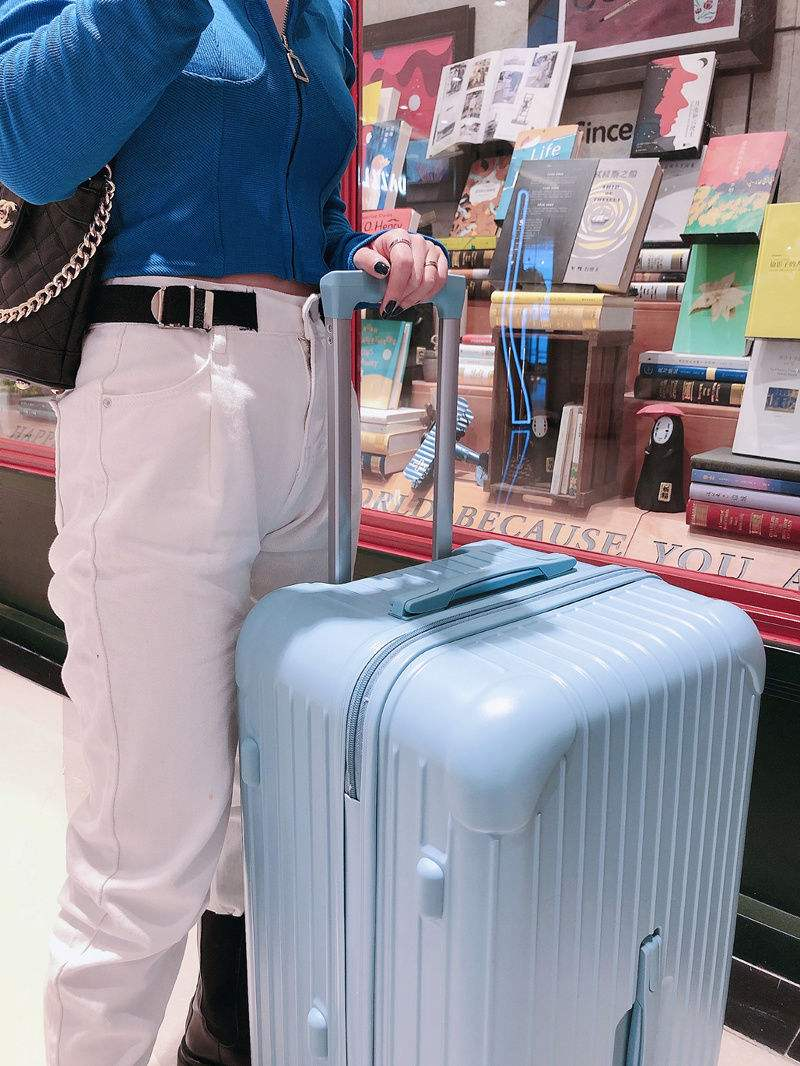box: (234, 539, 766, 1066)
handle: (385, 552, 578, 622)
